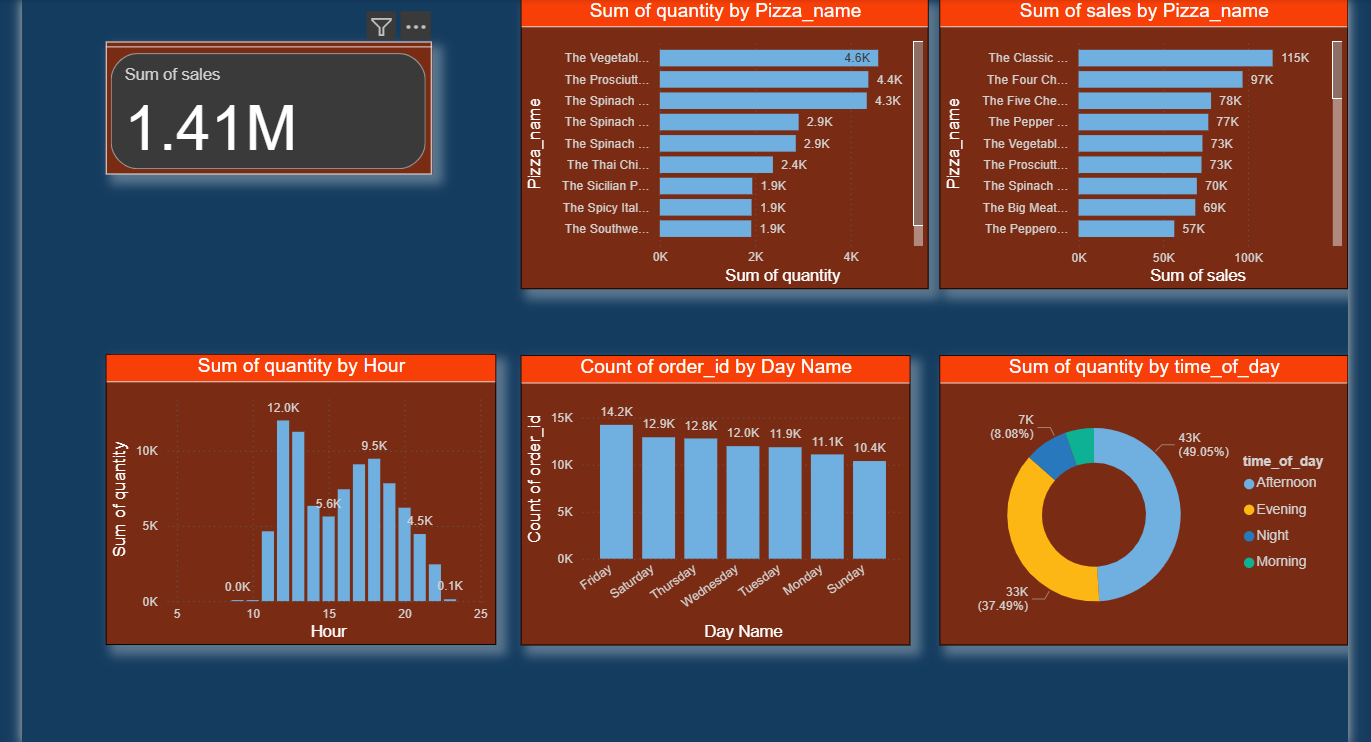

What the dashboard file says about the page in this screenshot:
{"tool":"powerbi","page":{"name":"Page 1","canvas":[1280,720],"ordinal":0},"visuals":[{"type":"clusteredColumnChart","fields":{"Category":["orders.Hour"],"Y":["Sum(order_details.quantity)"]},"box":[80.8,342.6,376.4,281.1],"z":0},{"type":"clusteredColumnChart","fields":{"Category":["orders.Day Name"],"Y":["CountNonNull(order_details.order_id)"]},"box":[481.6,344.4,376,279.9],"z":1},{"type":"cardVisual","fields":{"Data":["Sum(order_details.sales)"]},"box":[80.8,41,314.9,127.9],"z":2},{"type":"barChart","fields":{"Category":["order_details.Pizza_name"],"Y":["Sum(order_details.quantity)"]},"box":[481.6,0,393.8,279.9],"z":3},{"type":"barChart","fields":{"Category":["order_details.Pizza_name"],"Y":["Sum(order_details.sales)"]},"box":[886,0,394,280],"z":4},{"type":"donutChart","fields":{"Category":["orders.time_of_day"],"Y":["Sum(order_details.quantity)"]},"box":[886,344,394,280],"z":5}]}

Visuals, with their boxes in screenshot pixels (x1, y1, x2, y2):
clusteredColumnChart - orders.Hour x Sum(order_details.quantity): <region>121, 356, 504, 642</region>
clusteredColumnChart - orders.Day Name x CountNonNull(order_details.order_id): <region>529, 357, 912, 642</region>
cardVisual - Sum(order_details.sales): <region>121, 49, 442, 179</region>
barChart - order_details.Pizza_name x Sum(order_details.quantity): <region>529, 7, 930, 292</region>
barChart - order_details.Pizza_name x Sum(order_details.sales): <region>940, 7, 1341, 292</region>
donutChart - orders.time_of_day x Sum(order_details.quantity): <region>940, 357, 1341, 642</region>
